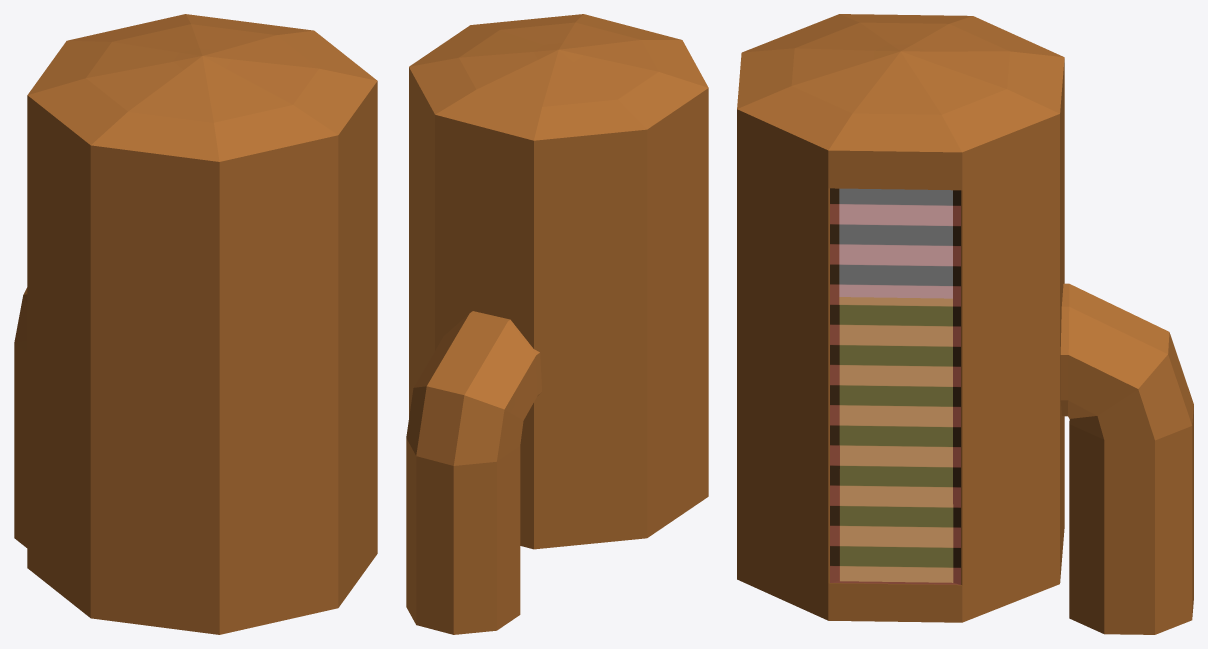
Rendered from VAT140.glb.
3 views of the same model, side by side, from view 1: azimuth 30°, elevation 25°; view 2: azimuth 150°, elevation 25°; view 3: azimuth 270°, elevation 25° (orthographic). The views are drawn at different scales.
Visible parts, largest first — view 1: Cylinder, Cylinder.001; view 2: Cylinder, Cylinder.001; view 3: Cylinder, glass, liquidHeight, Cylinder.001.
Part boxes in pixels (x1,y1,x2,y2): Cylinder: [27, 14, 377, 634]; Cylinder.001: [14, 287, 27, 547]; Cylinder: [409, 14, 708, 549]; Cylinder.001: [406, 311, 541, 634]; Cylinder: [737, 14, 1064, 622]; glass: [830, 188, 960, 584]; liquidHeight: [839, 189, 952, 582]; Cylinder.001: [1060, 283, 1193, 634].
Bounding box in the file's own units: 1.82 × 3.44 × 2.54.
4 materials, 1 textured.
